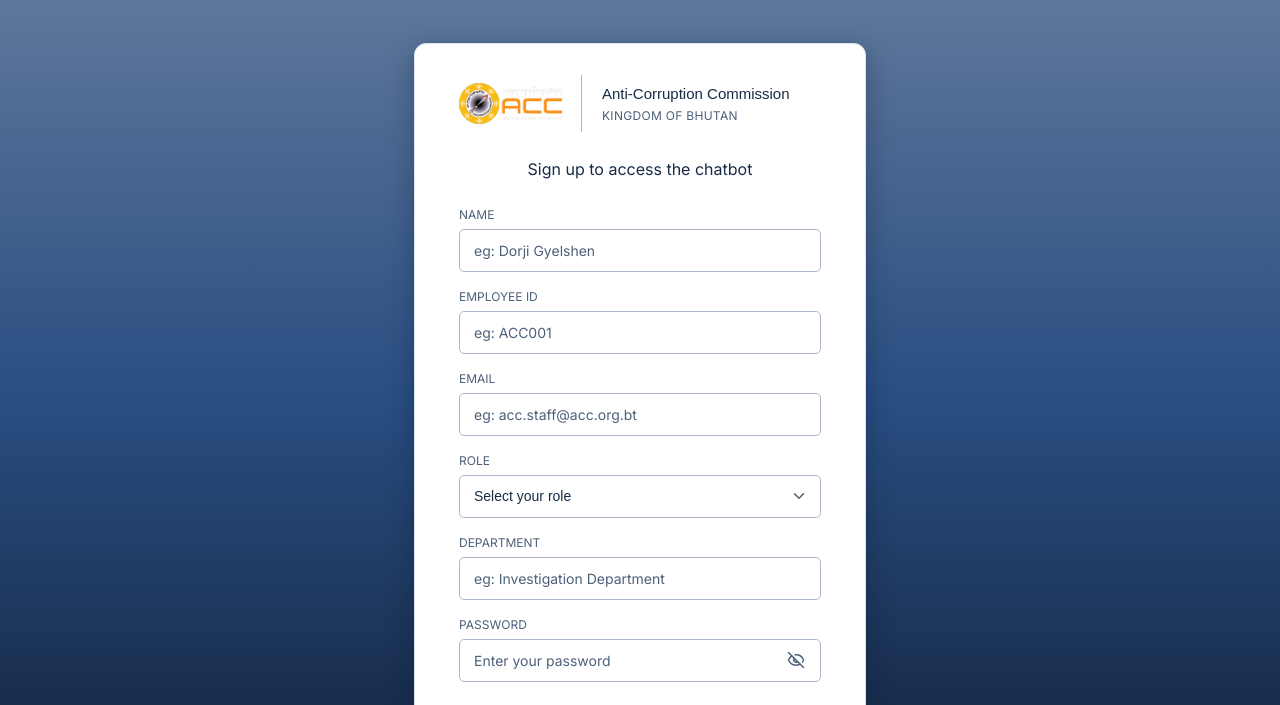
sign-up form › shows readable backend validation errors
Type "Test User" into the field labelled "NAME" at (640, 250), box [459,229,821,272]
Type "ACC-1" into the field labelled "EMPLOYEE ID" at (640, 332), box [459,311,821,354]
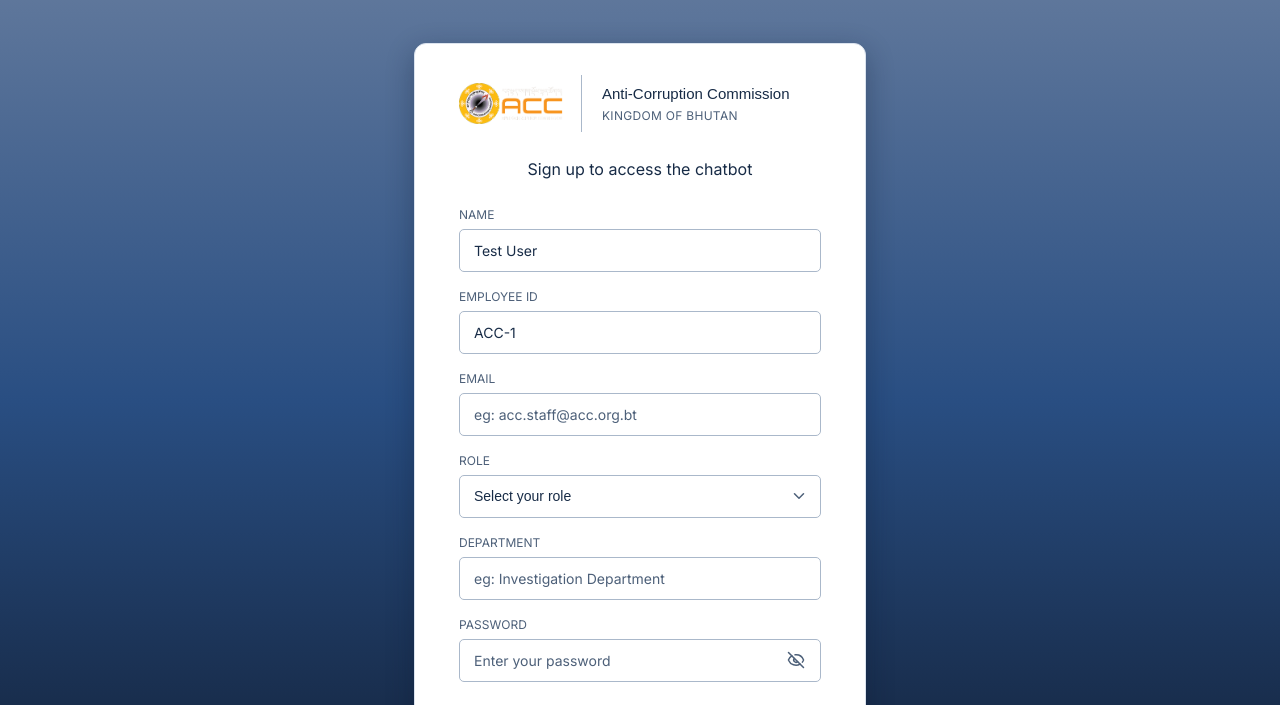
Type "staff@example.com" into the field labelled "EMAIL" at (640, 414), box [459,393,821,436]
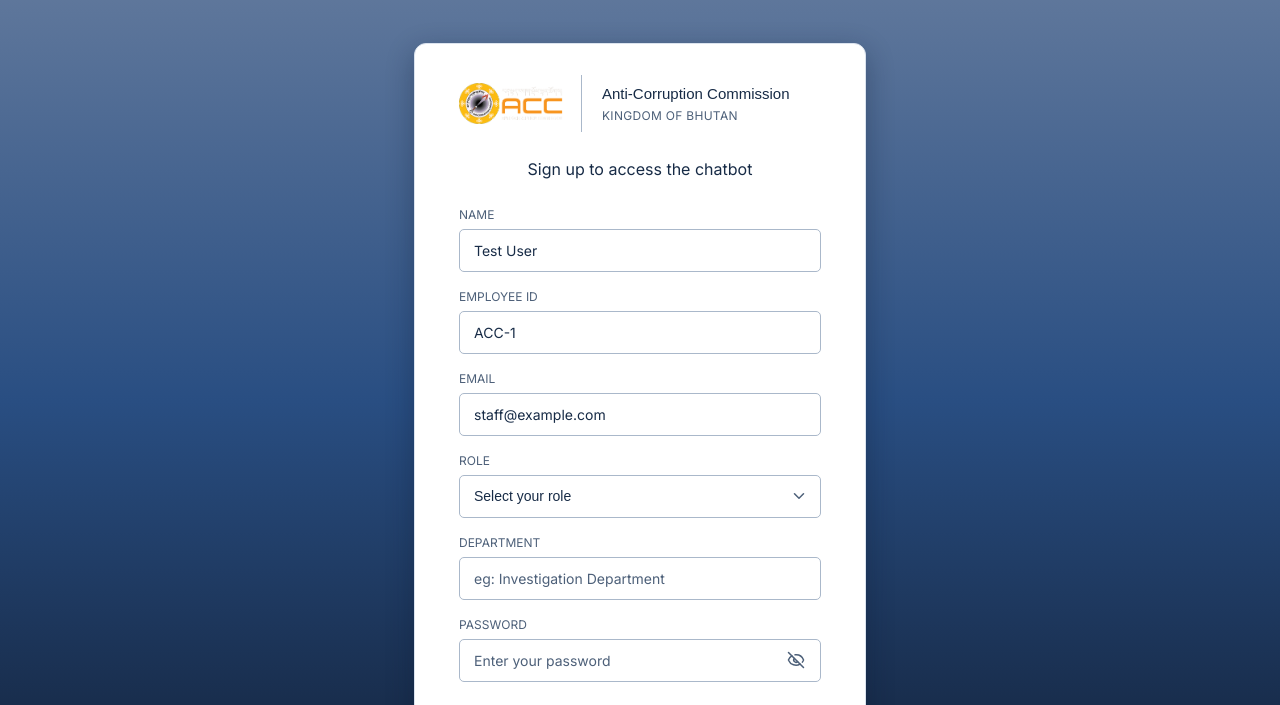
Type "Investigations" into the field labelled "DEPARTMENT" at (640, 578), box [459,557,821,600]
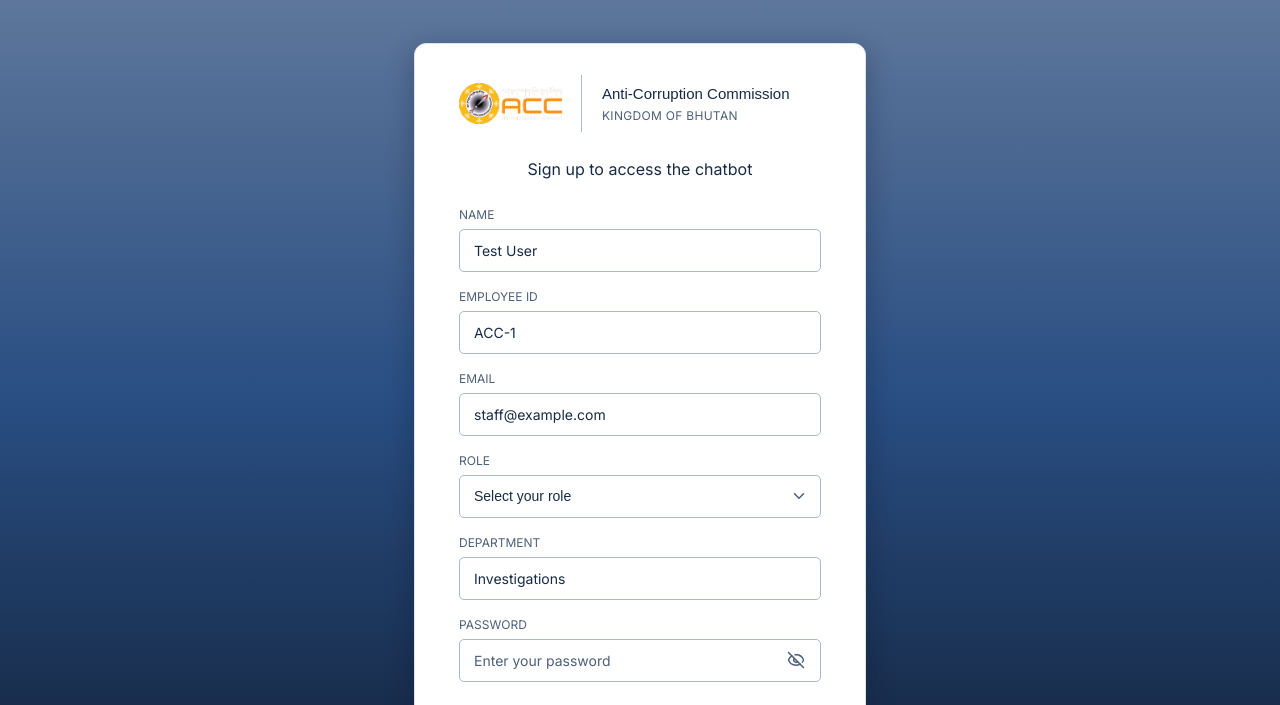
Type "Password1!" into the password field labelled "PASSWORD" at (640, 660), box [459,639,821,682]
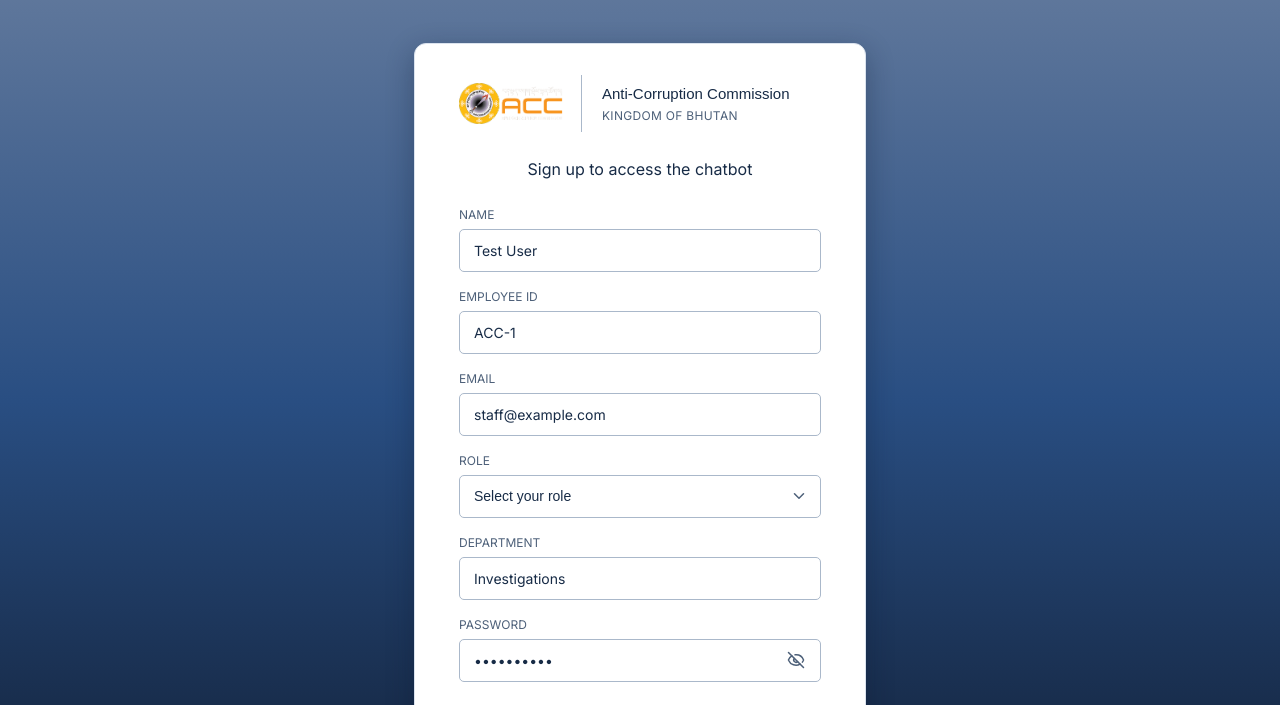
Select "Investigator" in the dropdown labelled "ROLE" at (640, 496), box [459,475,821,518]
(page scrolled)
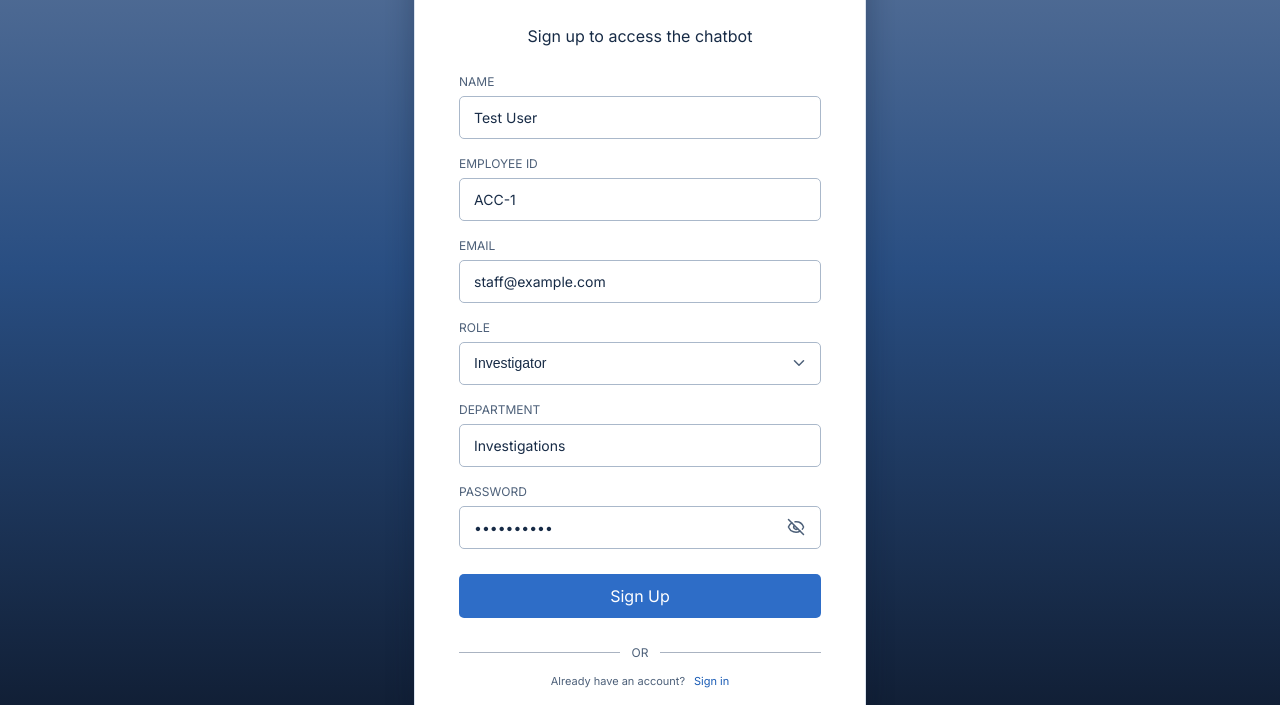
Submit the form "Sign Up", box [459,74,821,618]
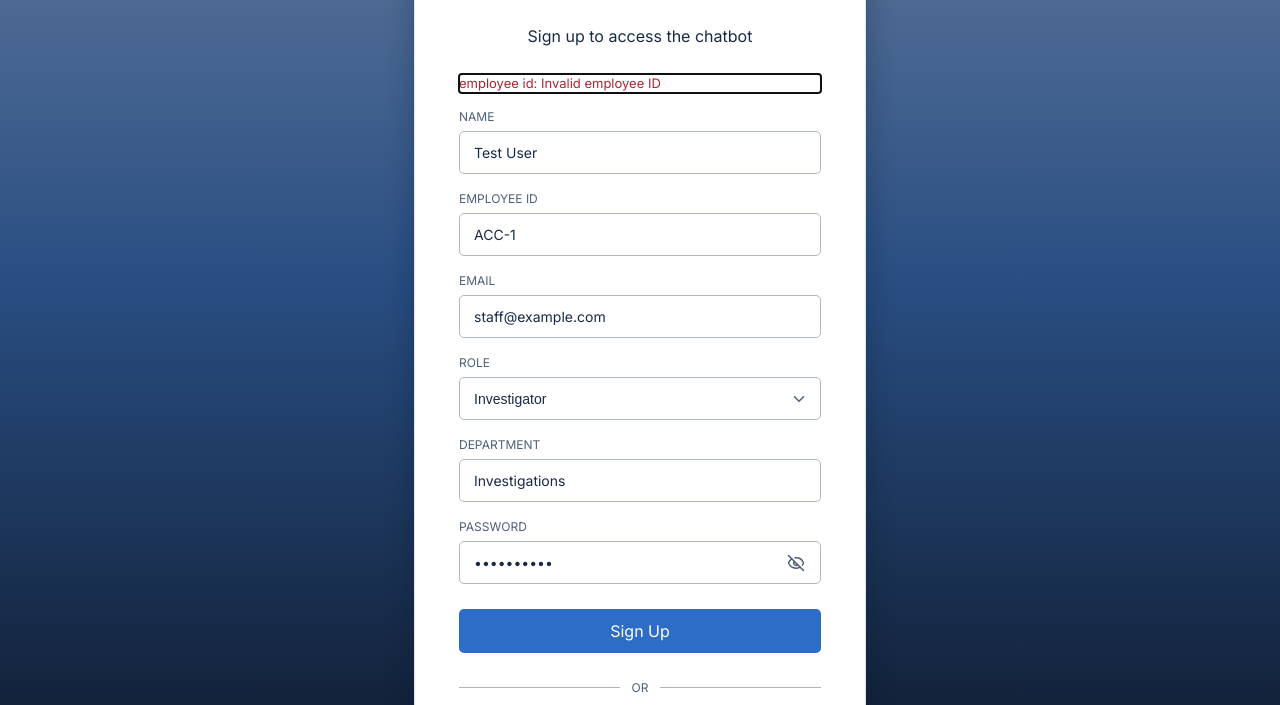
Expected: the message reads "employee id: Invalid employee ID", [459,75,661,91]
